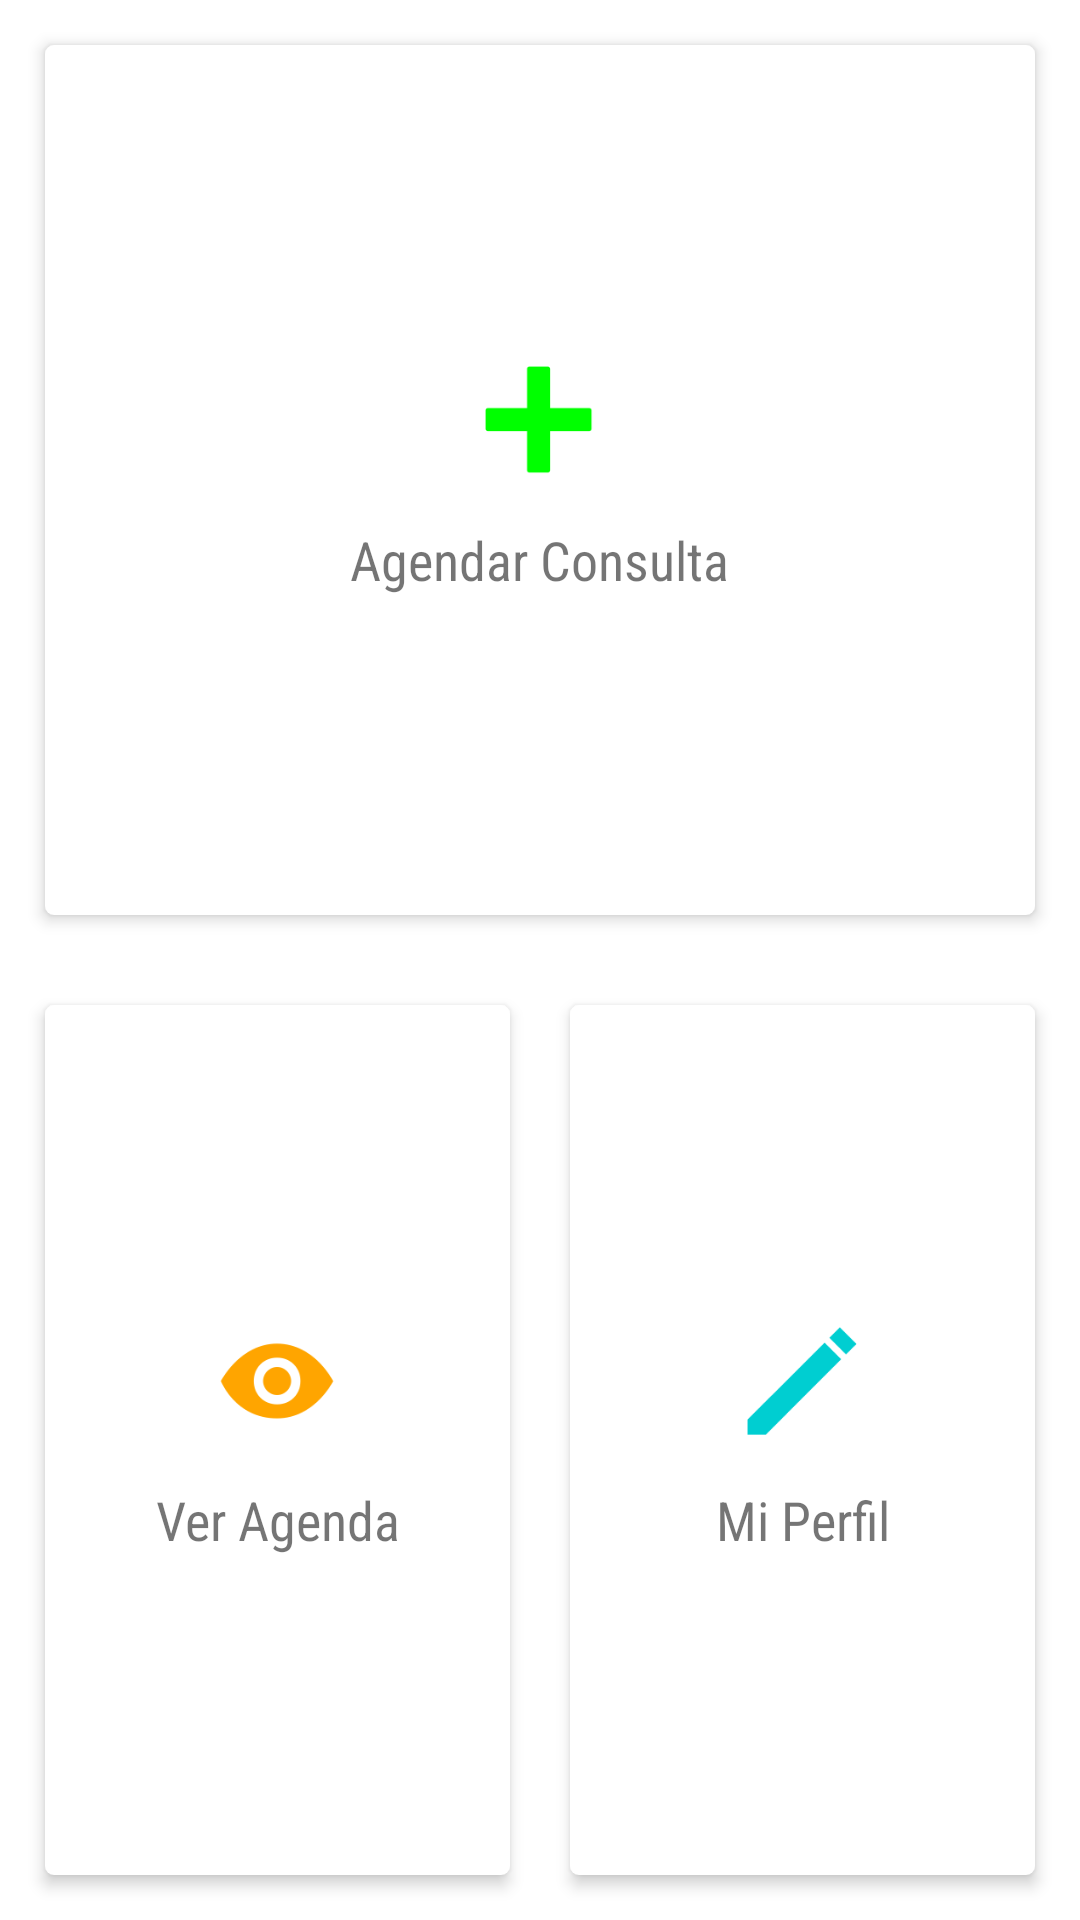

Named icons in this screenshot (1080x1920) and their centers, point (x, y):
add: point (538, 419)
edit: point (802, 1381)
see: point (277, 1381)
